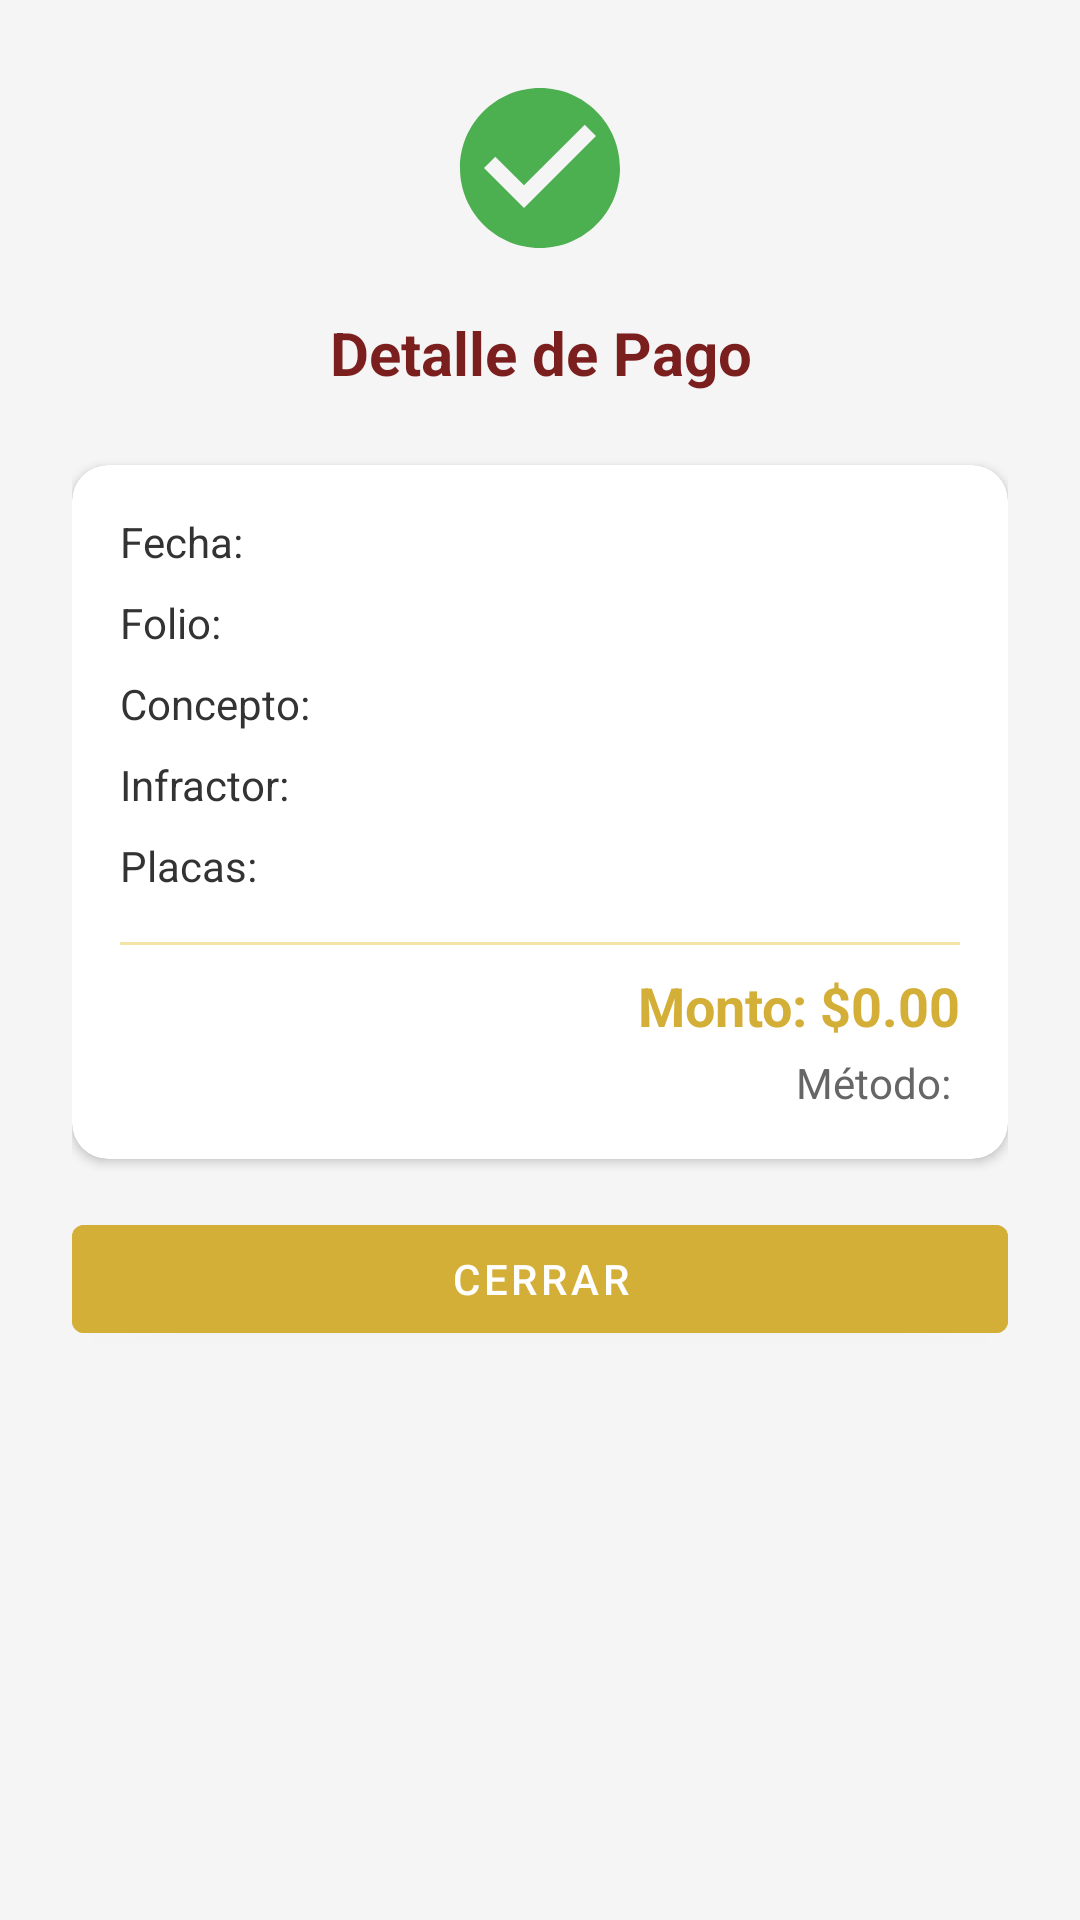

Point at icon controls on the screen. Image size 1080w x 1920h, points as [x,y].
check circle: [540,168]
